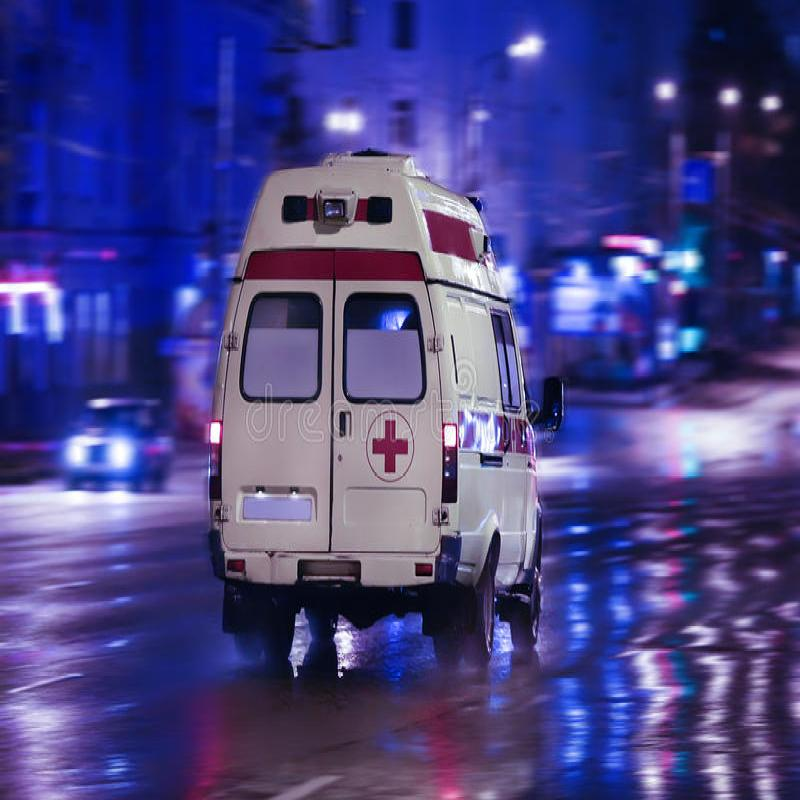ambulance: (199, 107, 595, 686)
